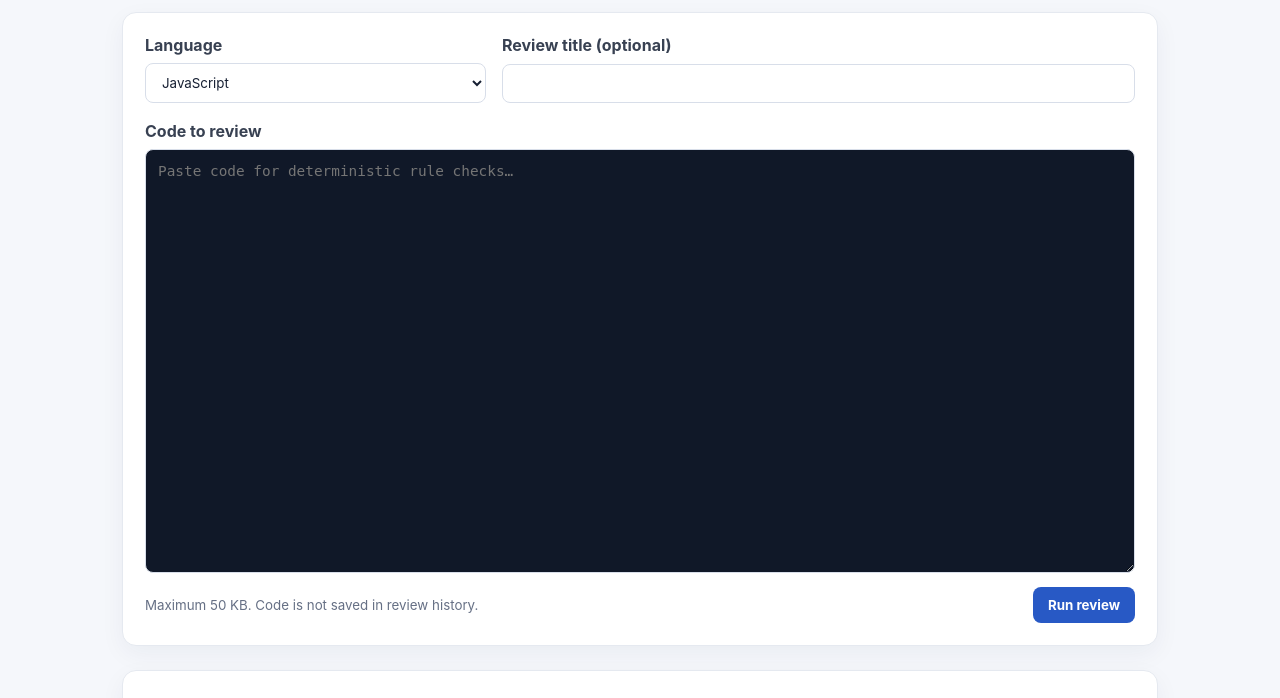
it: Code Review page › shows a clean result when the reviewer finds no issues
(page scrolled)
Type "const answer = 42" into the text box labelled "Code to review" at [640, 361], box 145,149 -> 1135,572
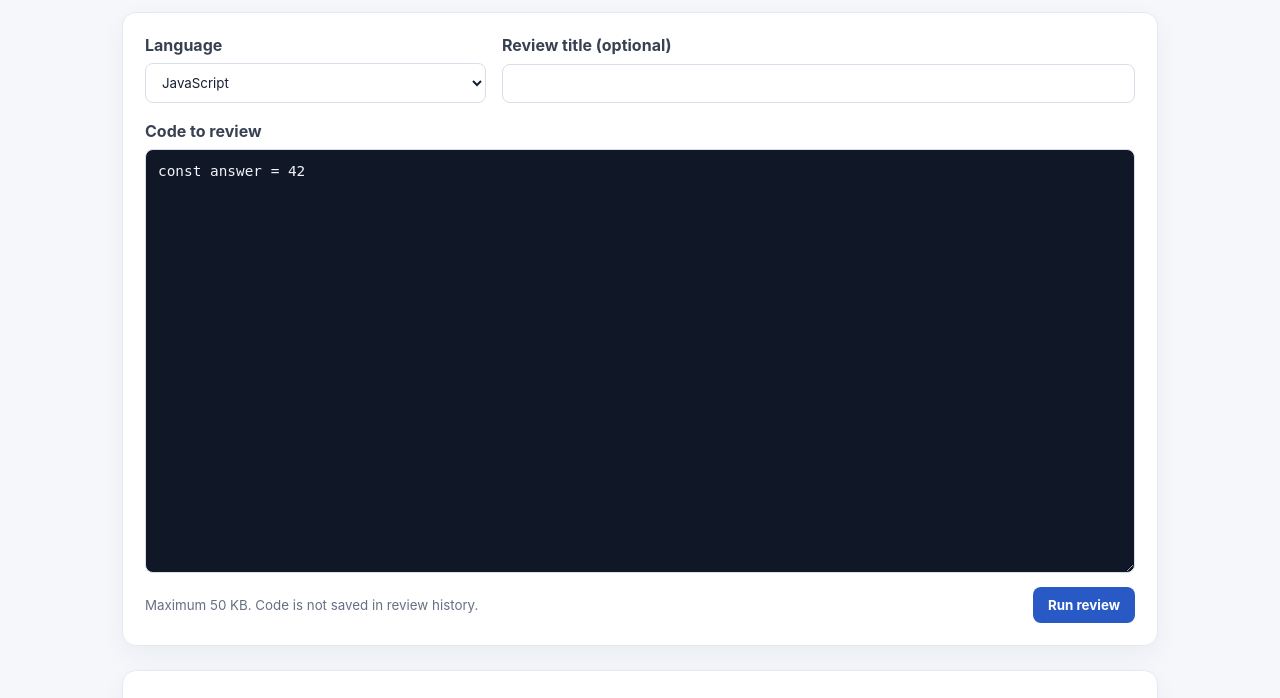
Click the button "Run review" at [1084, 604], box 1033,586 -> 1135,622
(page scrolled)
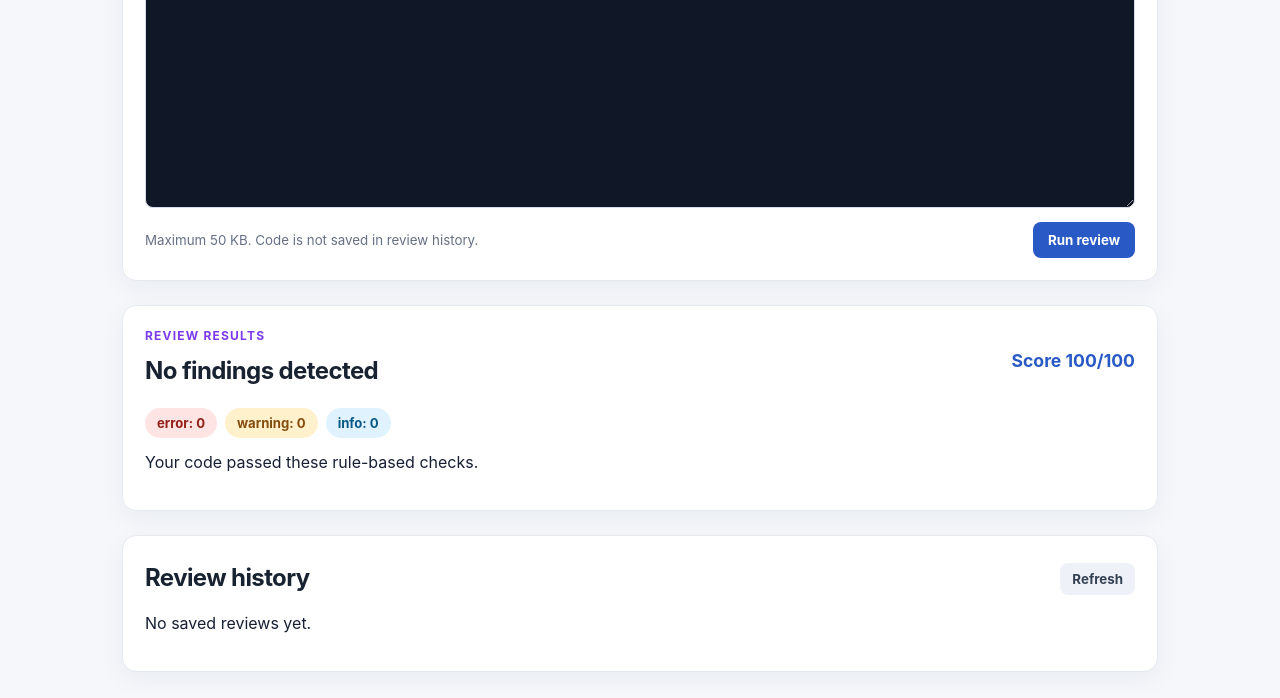
Check: the heading "No findings detected" is shown, box 145,354 -> 378,386
Check: the text "Your code passed these rule-based checks." is shown, box 145,452 -> 478,472
Check: the text "Score 100/100" is shown, box 1012,350 -> 1135,371
